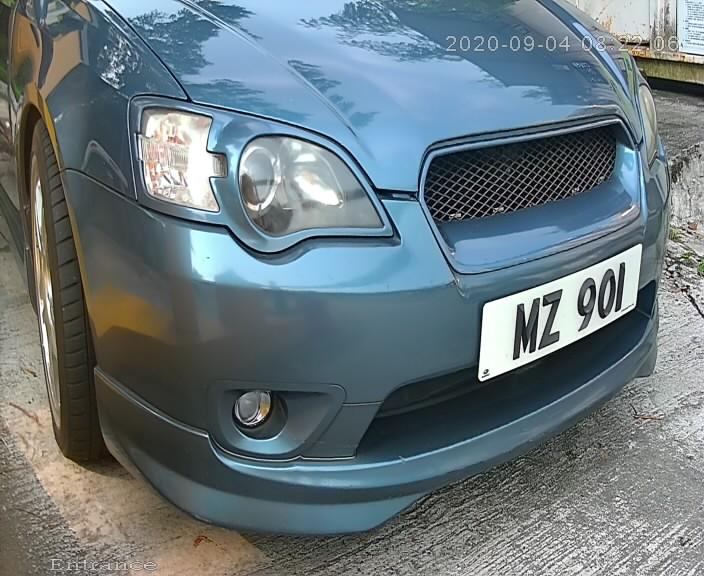License Plate: (475, 225, 651, 392)
